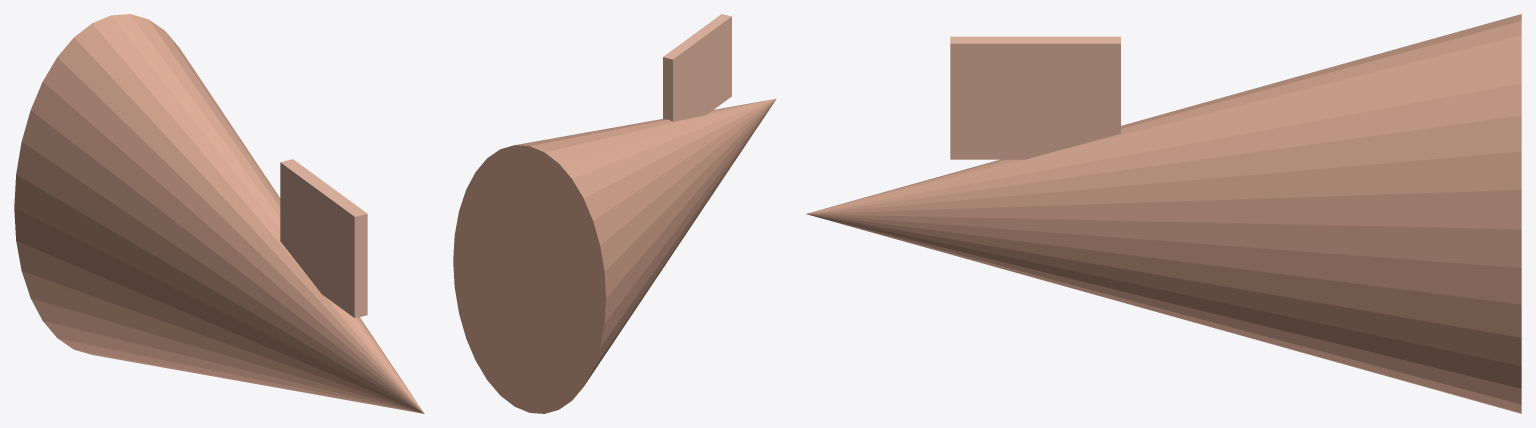
File: dasher.glb
3 renders of one model, left to right at view 1: azimuth 30°, elevation 25°; view 2: azimuth 150°, elevation 25°; view 3: azimuth 270°, elevation 25°, orthographic. The views are drawn at different scales.
Visible parts, largest first — view 1: Cone, Cube; view 2: Cone, Cube; view 3: Cone, Cube.
Part boxes in pixels (left/top/right/bottom): Cone: left=14, top=14, right=424, bottom=413; Cube: left=280, top=159, right=367, bottom=318; Cone: left=453, top=98, right=776, bottom=413; Cube: left=663, top=14, right=731, bottom=121; Cone: left=806, top=14, right=1521, bottom=413; Cube: left=950, top=36, right=1120, bottom=159.
Size of the model in its own units: 0.6 by 1 by 1.68.
